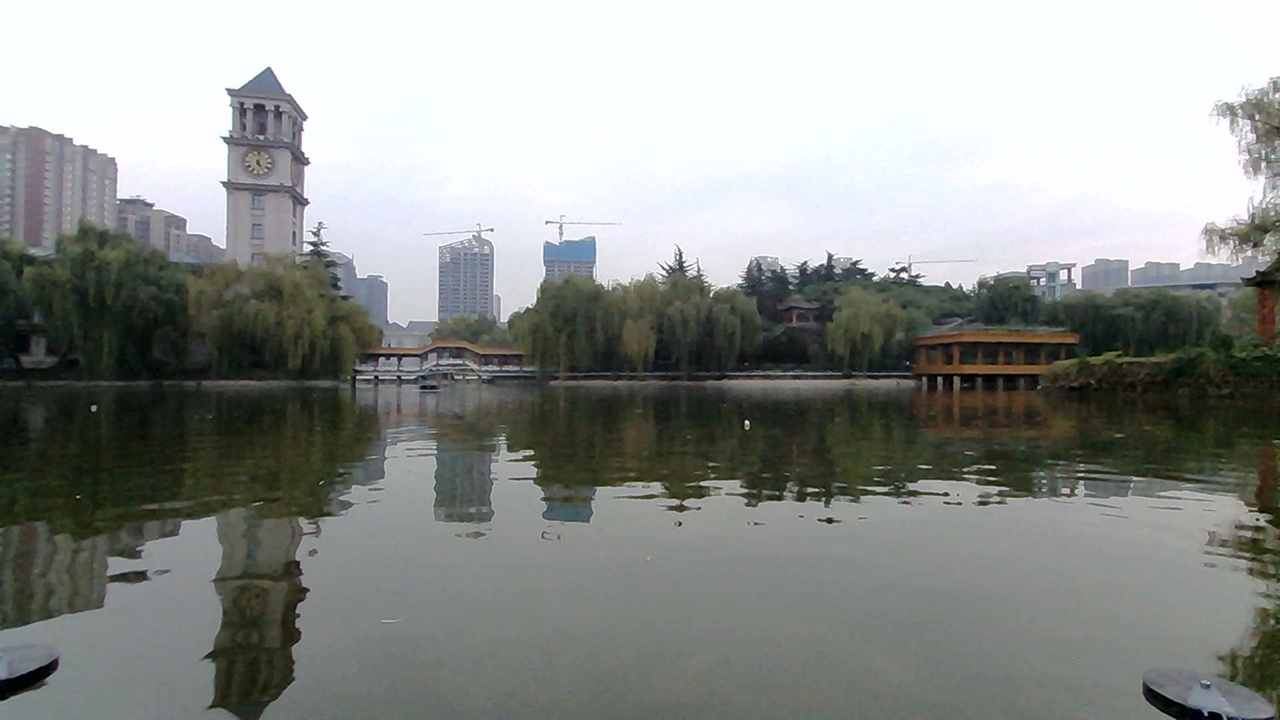bottle: (732, 407, 766, 432)
